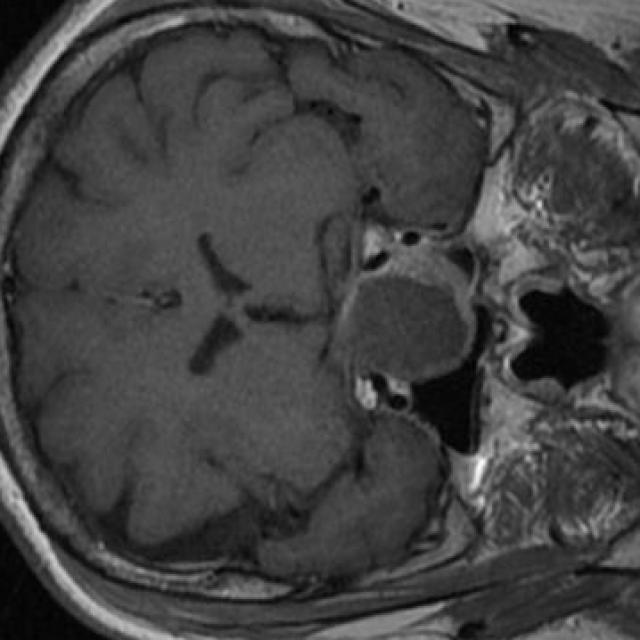pituitary: (351, 225, 476, 387)
